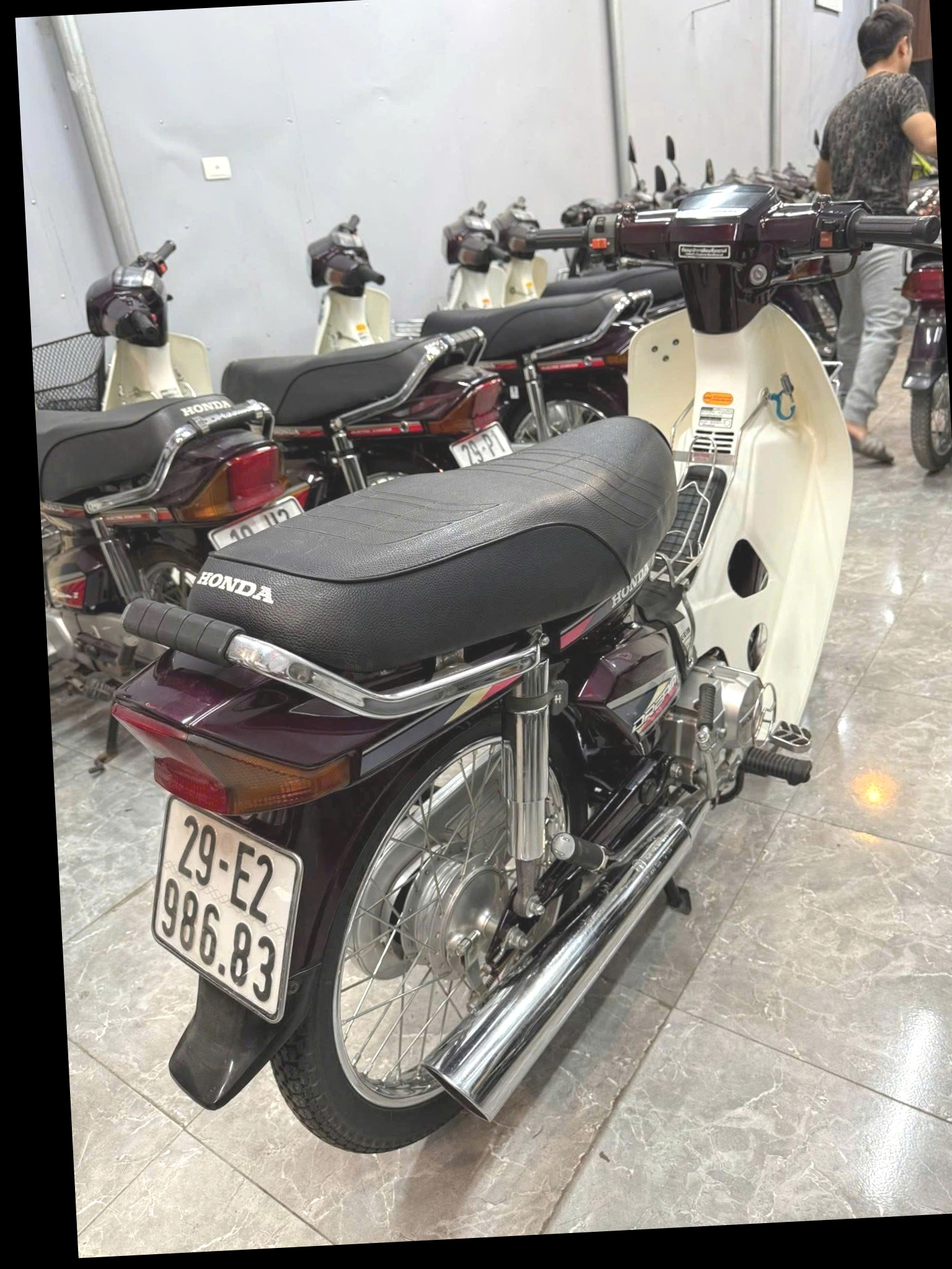Bien-so: (82, 830, 238, 1063), (163, 539, 261, 586), (406, 475, 474, 523)
